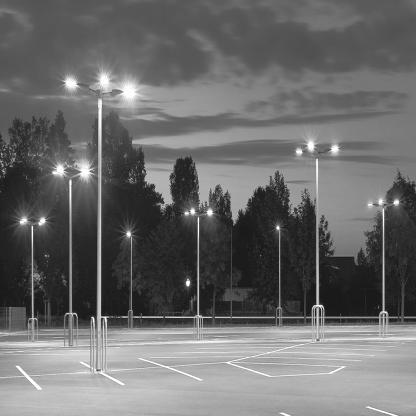light_pole: (65, 74, 137, 371), (295, 139, 339, 341), (51, 165, 90, 346), (367, 197, 401, 337), (185, 209, 214, 341), (20, 215, 44, 340), (126, 230, 134, 331), (276, 226, 282, 326)
